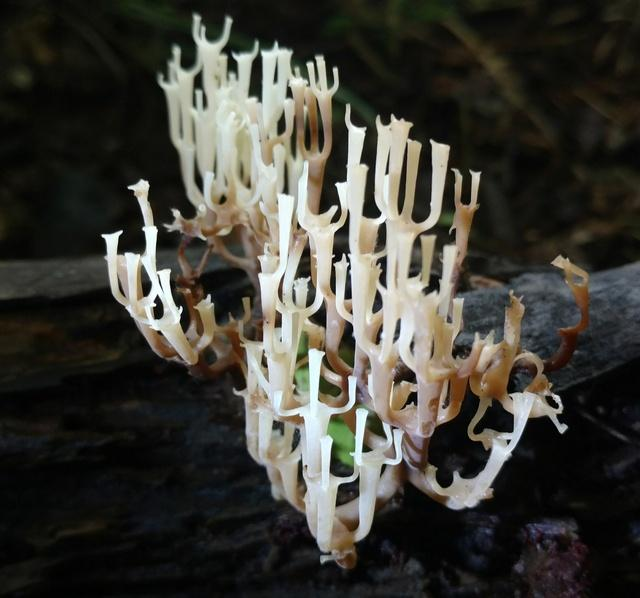edible_mushroom: (99, 11, 591, 571)
